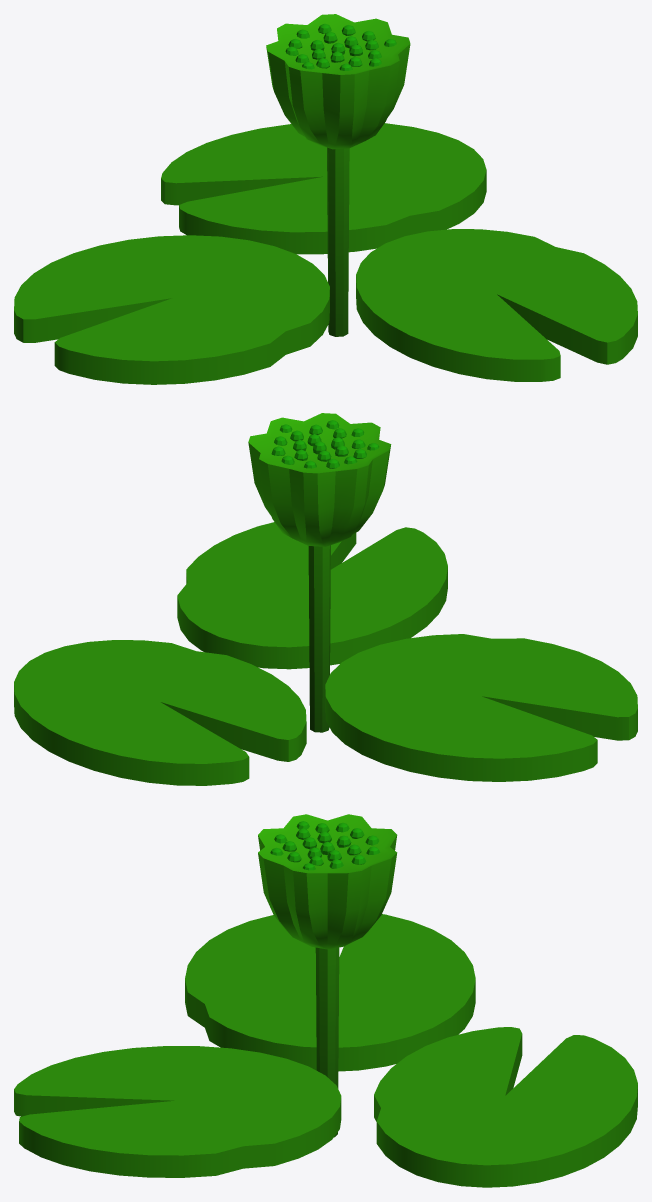
Rendered from Farm_Crop_Lotus_Step_01.fbx.
3 views of the same model, one above another, from view 1: azimuth 30°, elevation 25°; view 2: azimuth 150°, elevation 25°; view 3: azimuth 270°, elevation 25° (orthographic).
Parts seen in each view (by area): view 1: Farm_Crop_Lotus_Step_01; view 2: Farm_Crop_Lotus_Step_01; view 3: Farm_Crop_Lotus_Step_01.
Boxes of the visible parts, box(x1,y1,x2,y2) form: Farm_Crop_Lotus_Step_01: box(14, 14, 637, 384); Farm_Crop_Lotus_Step_01: box(14, 413, 637, 785); Farm_Crop_Lotus_Step_01: box(14, 814, 637, 1187).
Size of the model in its own units: 98.94 by 53.42 by 103.
